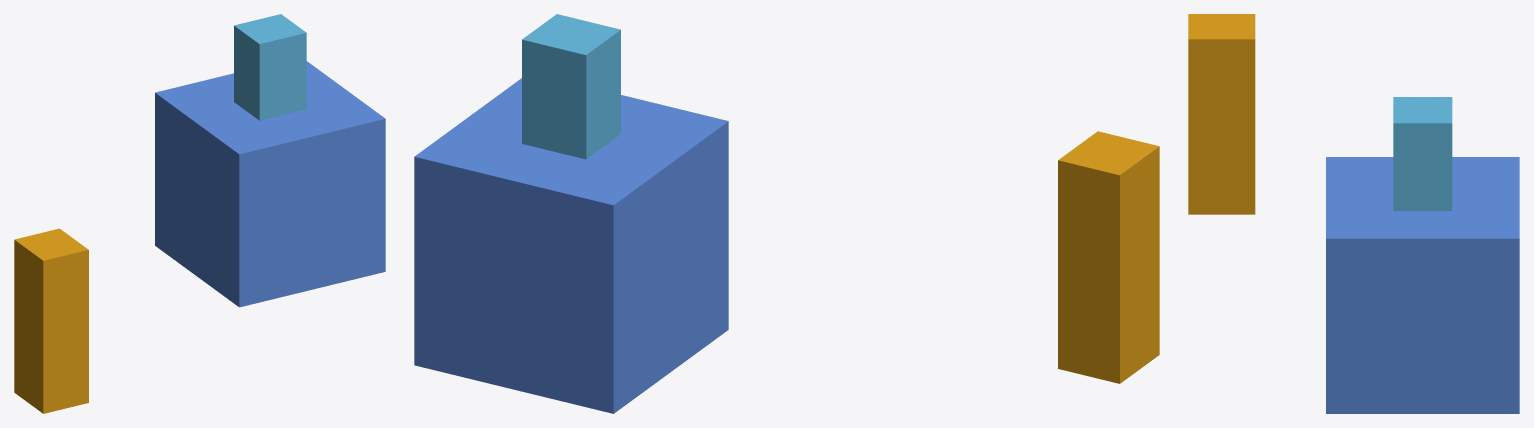
File: factory-demo.01.glb
The picture shows the model from 3 angles, left to right: view 1: azimuth 30°, elevation 25°; view 2: azimuth 150°, elevation 25°; view 3: azimuth 270°, elevation 25°; orthographic projection. The views are drawn at different scales.
Parts seen in each view (by area): view 1: 厂房1, 外立柱1, 立柱1; view 2: 厂房1, 外立柱1, 立柱1; view 3: 厂房1, 外立柱1, 立柱1.
Part boxes in pixels (<box>): 厂房1: <box>155,61,385,307</box>; 外立柱1: <box>14,228,88,413</box>; 立柱1: <box>234,14,306,120</box>; 厂房1: <box>414,78,728,413</box>; 外立柱1: <box>1058,131,1159,383</box>; 立柱1: <box>522,14,620,159</box>; 厂房1: <box>1326,157,1519,413</box>; 外立柱1: <box>1188,14,1255,214</box>; 立柱1: <box>1393,97,1452,210</box>.
Size of what is drawn, in the model's own units: 5.5 by 3 by 3.42.
